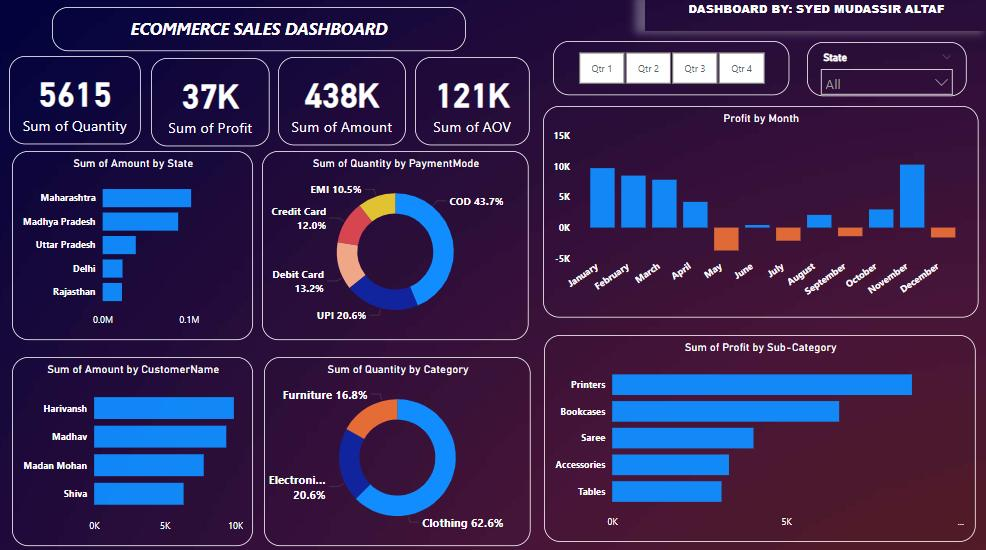

This screenshot's page, from the dashboard's own definition file:
{"tool":"powerbi","page":{"name":"Page 1","canvas":[1280,720],"ordinal":0},"visuals":[{"type":"textbox","box":[72.2,13.4,534.2,57.1],"z":0},{"type":"columnChart","title":"Profit by Month","fields":{"Y":["Sum(Details.Profit)"],"Category":["Orders.Date.Variation.Date Hierarchy.Month"]},"box":[706.1,140.4,561.5,272.5],"z":1000},{"type":"barChart","fields":{"Category":["Details.Sub-Category"],"Y":["Sum(Details.Profit)"]},"box":[707.4,436.3,557.4,267],"z":2000},{"type":"donutChart","fields":{"Category":["Details.Category"],"Y":["Sum(Details.Quantity)"]},"box":[346,464.1,344.1,243.6],"z":3000},{"type":"donutChart","fields":{"Category":["Details.PaymentMode","Details.Category"],"Y":["Sum(Details.Quantity)"]},"box":[343.3,198.5,344.1,243.6],"z":4000},{"type":"card","fields":{"Values":["Sum(Details.Amount)"]},"box":[364.5,77.3,164.6,114.2],"z":5000},{"type":"card","fields":{"Values":["Sum(Details.Profit)"]},"box":[199.9,79,152.9,114.2],"z":6000},{"type":"card","fields":{"Values":["Sum(Details.Quantity)"]},"box":[16.8,75.6,169.7,114.2],"z":7000},{"type":"card","fields":{"Values":["Sum(Details.AOV)"]},"box":[540.9,77.3,147.8,114.2],"z":8000},{"type":"barChart","fields":{"Category":["Orders.State"],"Y":["Sum(Details.Amount)"]},"box":[21.2,198.5,311.1,243.6],"z":9000},{"type":"barChart","fields":{"Category":["Orders.CustomerName"],"Y":["Sum(Details.Amount)"]},"box":[21.2,464.1,311.1,243.6],"z":10000},{"type":"slicer","fields":{"Values":["Orders.Date.Variation.Date Hierarchy.Quarter"]},"box":[718.7,56.8,304.5,69.7],"z":11000},{"type":"slicer","fields":{"Values":["Orders.State"]},"box":[1046.5,58.1,206.5,69.7],"z":12000},{"type":"textbox","box":[837.4,0,442.6,43.9],"z":12001}]}

Visuals, with their boxes in screenshot pixels (x1, y1, x2, y2), scaled from the page's 1280x720 canvas onto the 986x550 screenshot:
textbox: left=56, top=10, right=467, bottom=54
"Profit by Month" columnChart: left=544, top=107, right=976, bottom=315
barChart - Details.Sub-Category x Sum(Details.Profit): left=545, top=333, right=974, bottom=537
donutChart - Details.Category x Sum(Details.Quantity): left=267, top=355, right=532, bottom=541
donutChart - Details.PaymentMode x Details.Category: left=264, top=152, right=530, bottom=338
card - Sum(Details.Amount): left=281, top=59, right=408, bottom=146
card - Sum(Details.Profit): left=154, top=60, right=272, bottom=148
card - Sum(Details.Quantity): left=13, top=58, right=144, bottom=145
card - Sum(Details.AOV): left=417, top=59, right=531, bottom=146
barChart - Orders.State x Sum(Details.Amount): left=16, top=152, right=256, bottom=338
barChart - Orders.CustomerName x Sum(Details.Amount): left=16, top=355, right=256, bottom=541
slicer - Orders.Date.Variation.Date Hierarchy.Quarter: left=554, top=43, right=788, bottom=97
slicer - Orders.State: left=806, top=44, right=965, bottom=98
textbox: left=645, top=0, right=985, bottom=34
